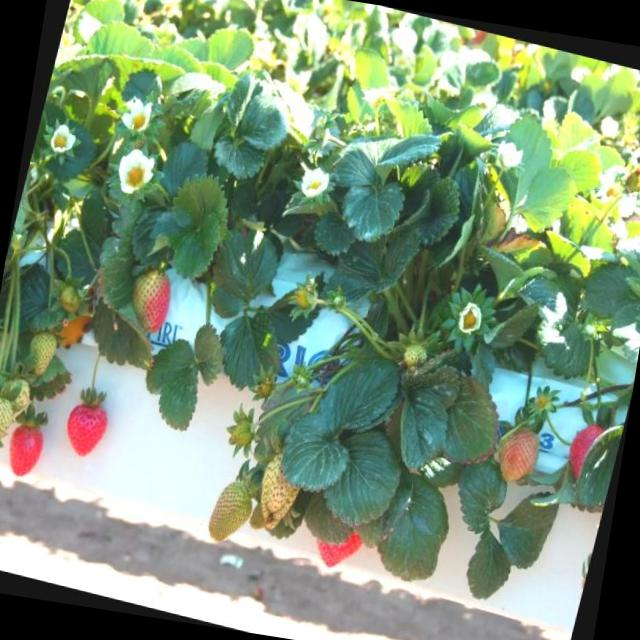ripe: (560, 416, 616, 490), (56, 394, 112, 466), (562, 420, 616, 494), (0, 416, 51, 485), (315, 519, 368, 572)
